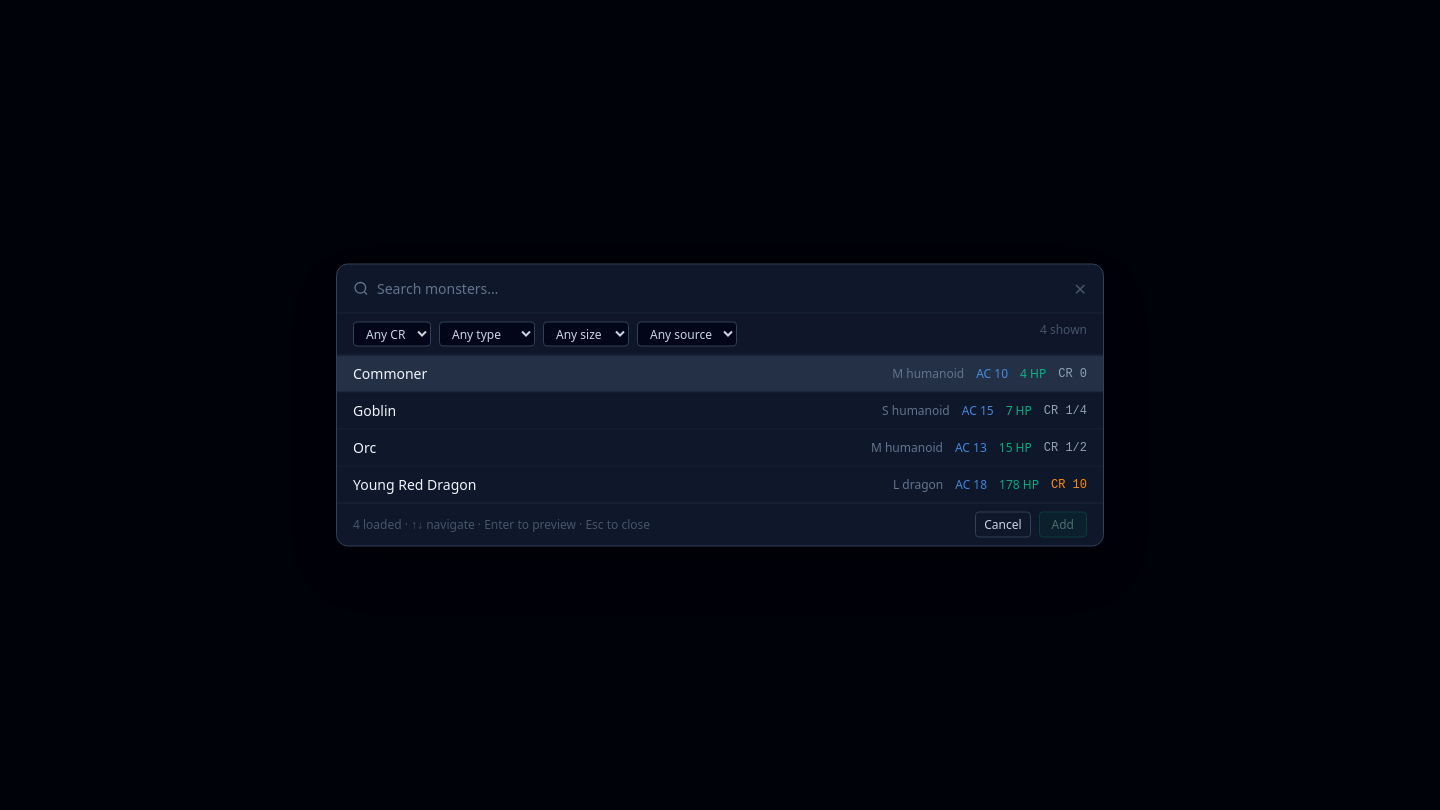
Test: MonsterPicker › clear filters button appears only when a filter is set
Expected: the text "clear filters" is not shown
Select "dragon" in the 2nd dropdown at (487, 334), box x1=439 y1=322 x2=535 y2=346
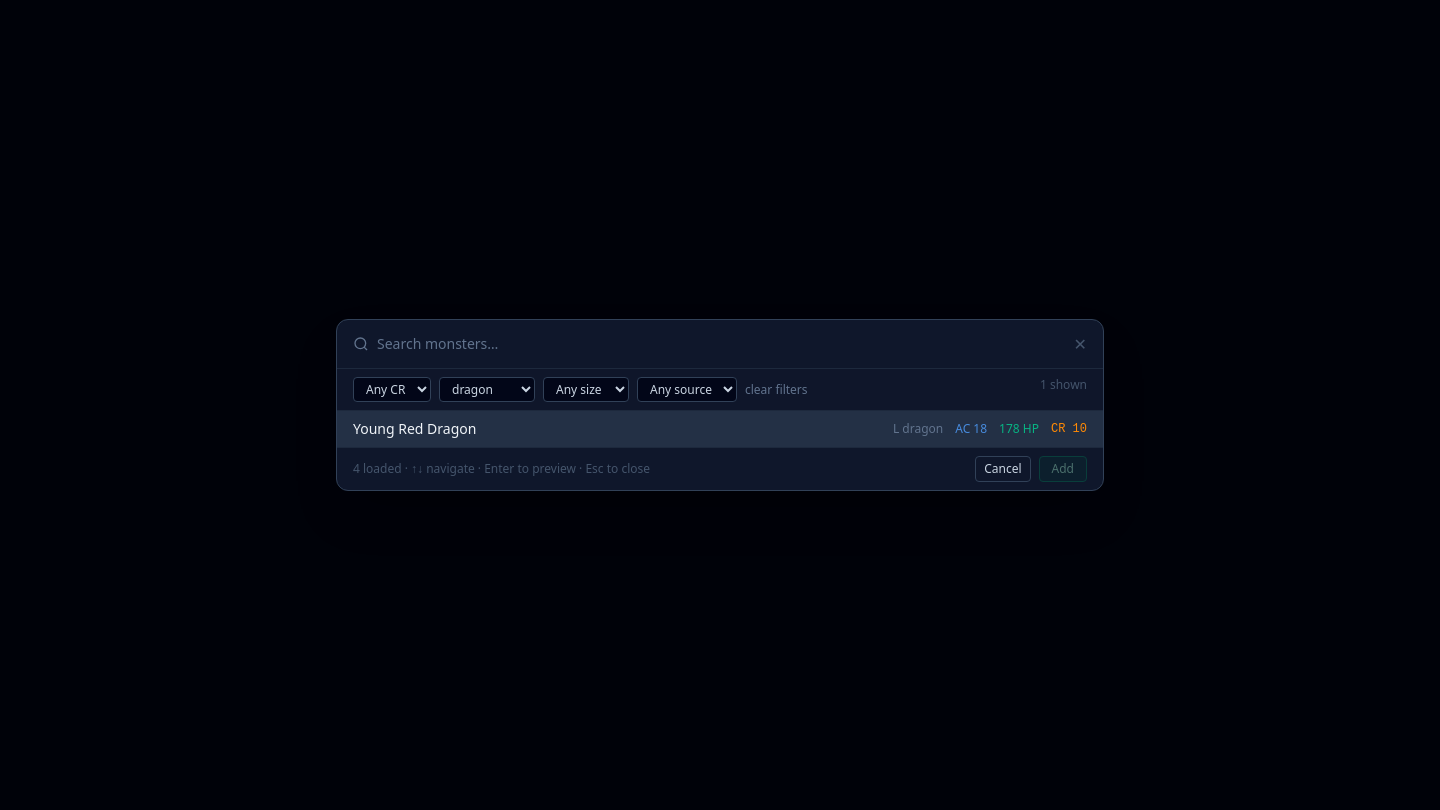
Result: the button "clear filters" is shown at x1=745 y1=377 x2=808 y2=402
